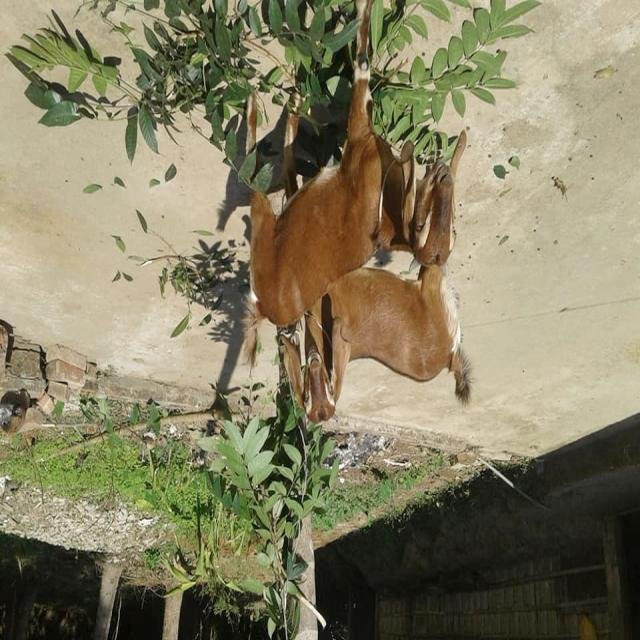Goat: (239, 2, 467, 371), (275, 128, 473, 426)
